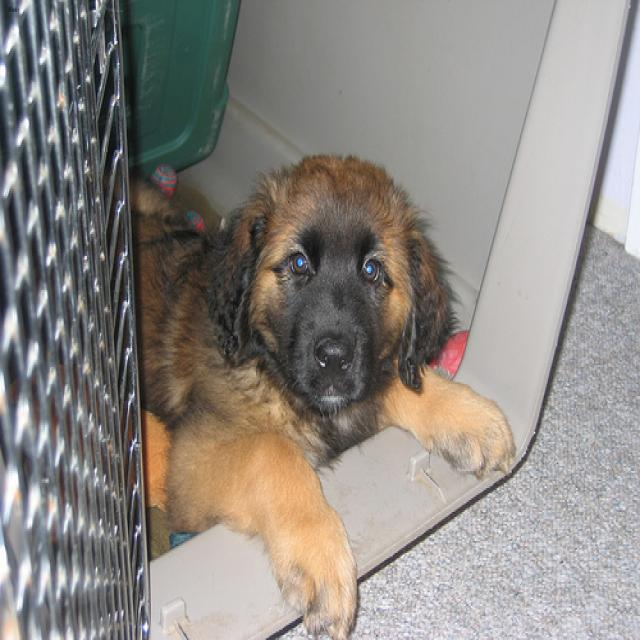dog-leonberger: (118, 142, 529, 637)
